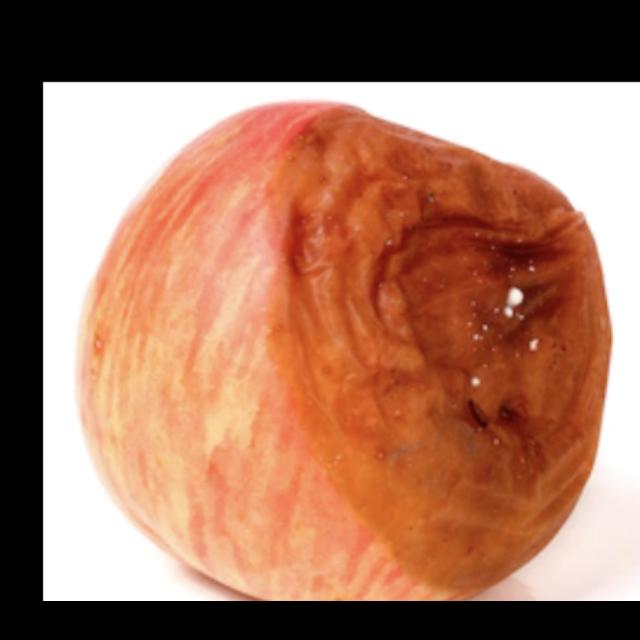Apel Tidak Segar: (85, 103, 609, 602)
